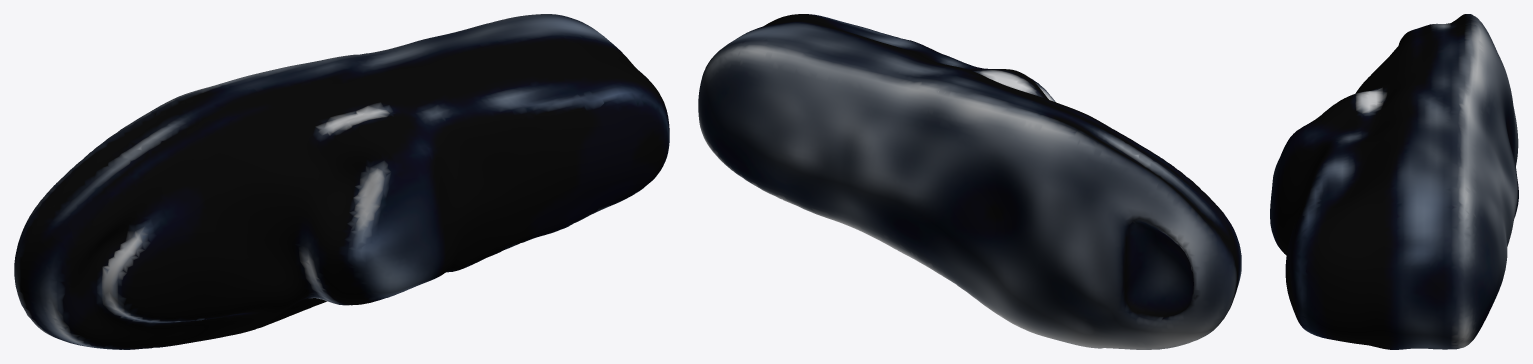
File: shoe.glb
3 views of the same model, side by side, from view 1: azimuth 30°, elevation 25°; view 2: azimuth 150°, elevation 25°; view 3: azimuth 270°, elevation 25° (orthographic). The views are drawn at different scales.
Bounding box in the file's own units: 0.9994 × 0.3952 × 0.3658.
